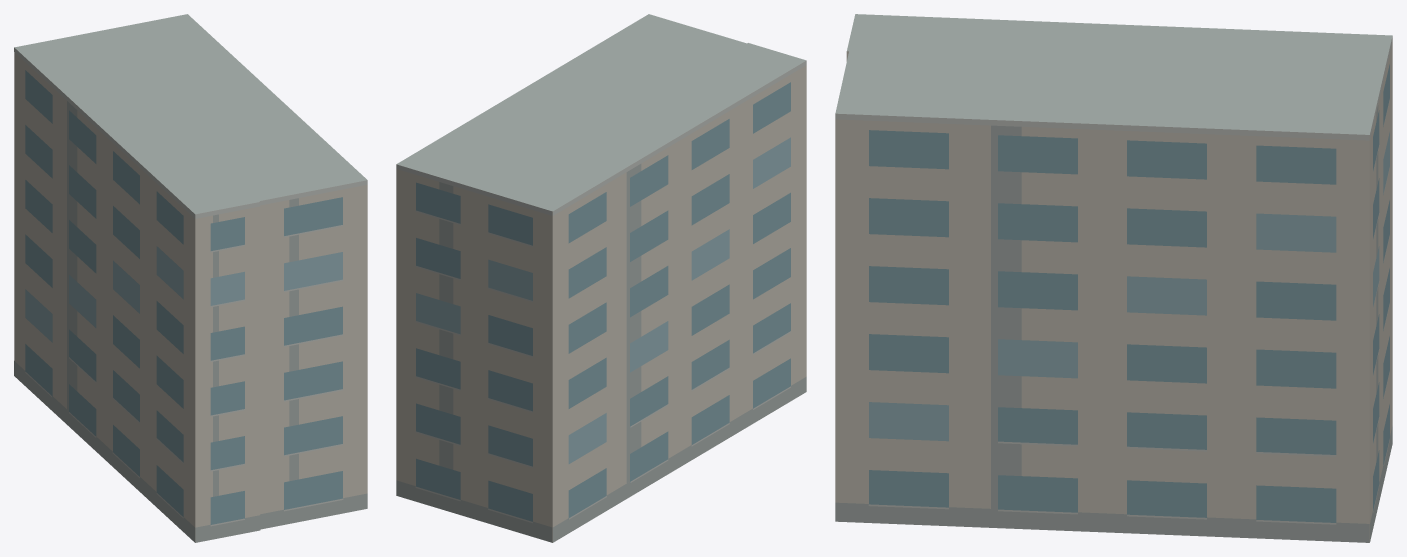
The model's file is survey-upis-32831204.glb.
3 views of the same model, side by side, from view 1: azimuth 30°, elevation 25°; view 2: azimuth 150°, elevation 25°; view 3: azimuth 270°, elevation 25° (orthographic). The views are drawn at different scales.
Visible parts, largest first — view 1: survey-upis-32831204.tmp; view 2: survey-upis-32831204.tmp; view 3: survey-upis-32831204.tmp.
Boxes of the visible parts, <box> form: survey-upis-32831204.tmp: <box>14,14,367,542</box>; survey-upis-32831204.tmp: <box>396,14,806,542</box>; survey-upis-32831204.tmp: <box>835,14,1392,542</box>.
Bounding box in the file's own units: 11.14 × 17.5 × 21.68.
